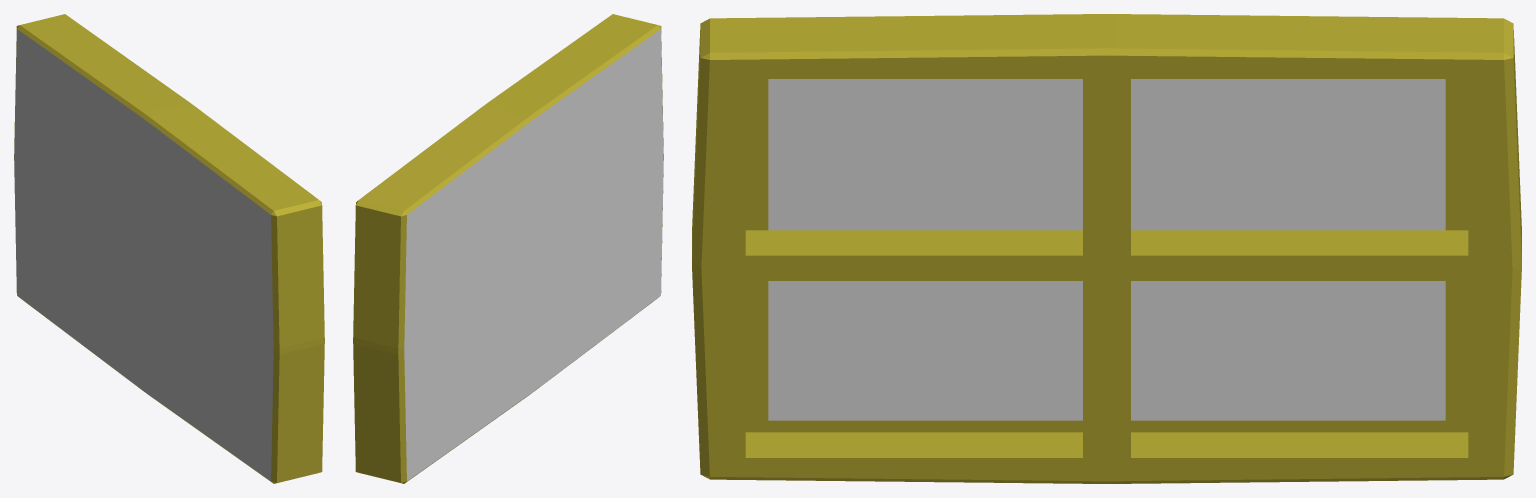
The model's file is Ventana.fbx.
3 renders of one model, left to right at view 1: azimuth 30°, elevation 25°; view 2: azimuth 150°, elevation 25°; view 3: azimuth 270°, elevation 25°, orthographic. The views are drawn at different scales.
Parts seen in each view (by area): view 1: Ventana+ShapeKey; view 2: Ventana+ShapeKey; view 3: Ventana+ShapeKey.
Boxes of the visible parts, bbox=[...] form: Ventana+ShapeKey: bbox=[14, 14, 324, 483]; Ventana+ShapeKey: bbox=[353, 14, 663, 483]; Ventana+ShapeKey: bbox=[692, 14, 1521, 483].
Bounding box in the file's own units: 0.1494 × 0.7788 × 1.34.
